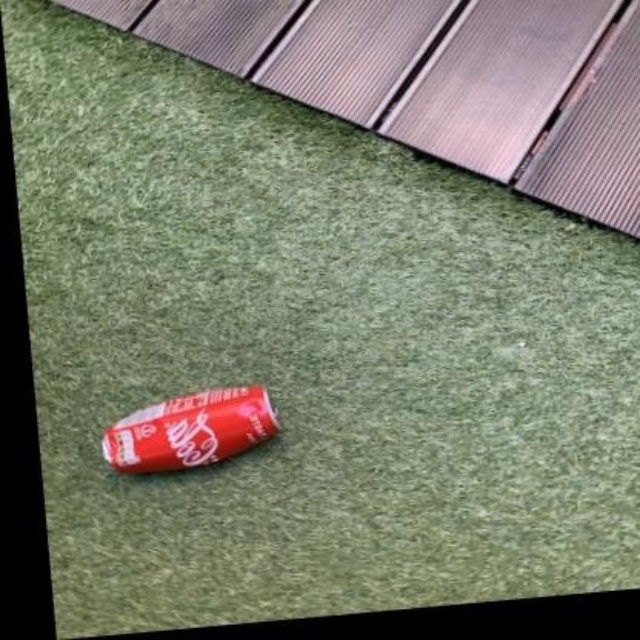trash: (102, 386, 278, 471)
